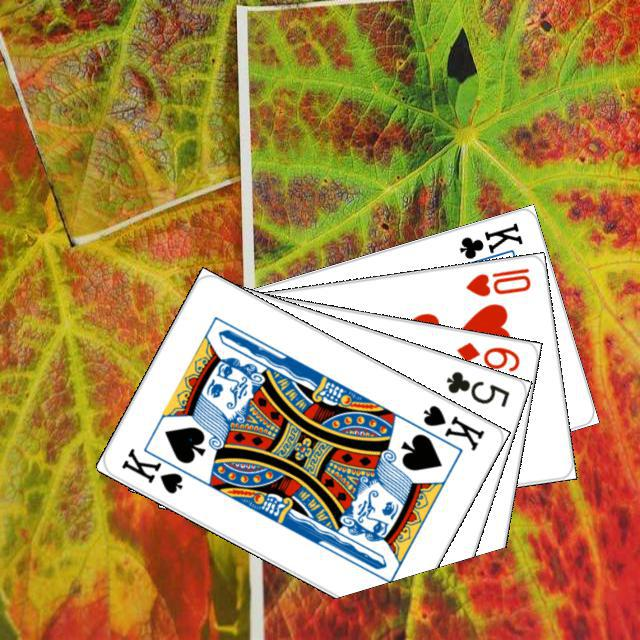10h: (460, 263, 533, 299)
5c: (441, 366, 512, 409)
6d: (451, 337, 522, 374)
Kc: (451, 217, 525, 270)
Ks: (116, 442, 196, 496), (418, 400, 486, 453)
